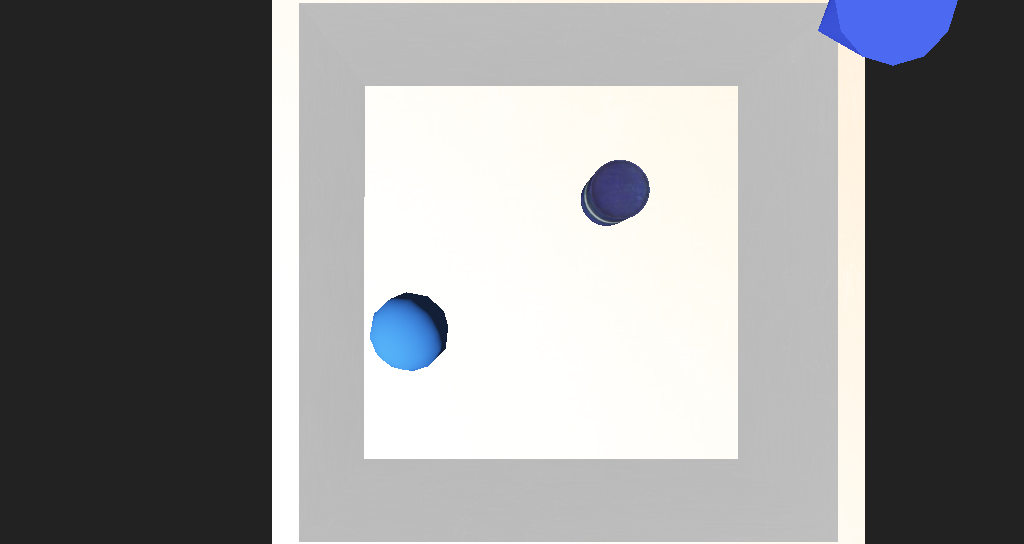cone: (536, 208, 583, 241)
cylinder: (653, 88, 775, 179)
sphere: (357, 277, 424, 324)
